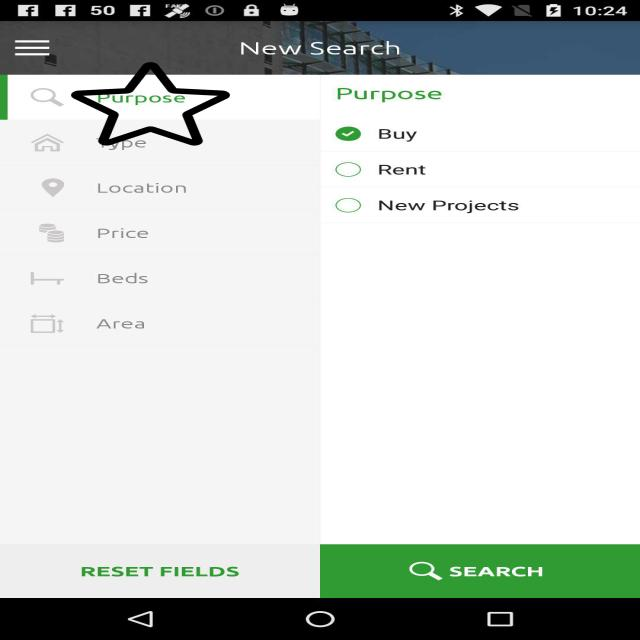forced continuity: (71, 61, 230, 148)
